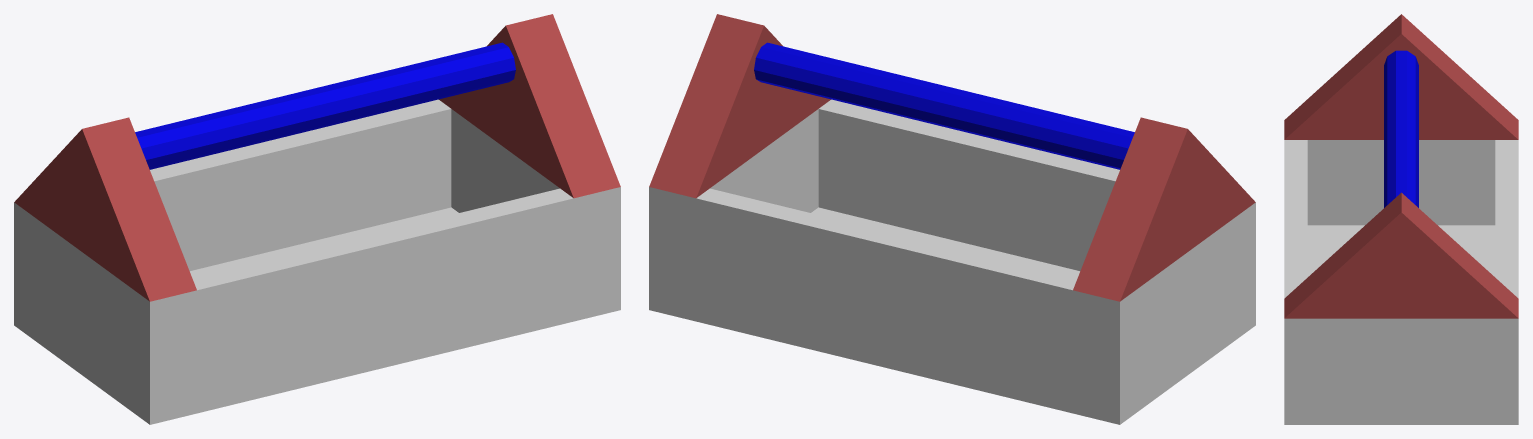
Rendered from cajaHerramientas.fbx.
The picture shows the model from 3 angles, left to right: view 1: azimuth 30°, elevation 25°; view 2: azimuth 150°, elevation 25°; view 3: azimuth 270°, elevation 25°; orthographic projection. The views are drawn at different scales.
Parts seen in each view (by area): view 1: pCube3, pasted__pCube2, pCylinder1, pCube2; view 2: pCube3, pasted__pCube2, pCylinder1, pCube2; view 3: pCube3, pCube2, pasted__pCube2, pCylinder1.
Boxes of the visible parts, x1=… form: pCube3: x1=14, y1=99, x2=620, y2=424; pasted__pCube2: x1=14, y1=117, x2=196, y2=301; pCylinder1: x1=135, y1=42, x2=515, y2=169; pCube2: x1=439, y1=14, x2=620, y2=198; pCube3: x1=649, y1=99, x2=1255, y2=424; pasted__pCube2: x1=1073, y1=117, x2=1255, y2=301; pCylinder1: x1=754, y1=42, x2=1134, y2=169; pCube2: x1=649, y1=14, x2=830, y2=198; pCube3: x1=1284, y1=140, x2=1518, y2=424; pCube2: x1=1284, y1=192, x2=1518, y2=318; pasted__pCube2: x1=1284, y1=14, x2=1518, y2=139; pCylinder1: x1=1384, y1=50, x2=1418, y2=207.
Size of the model in its own units: 4 by 2 by 2.
